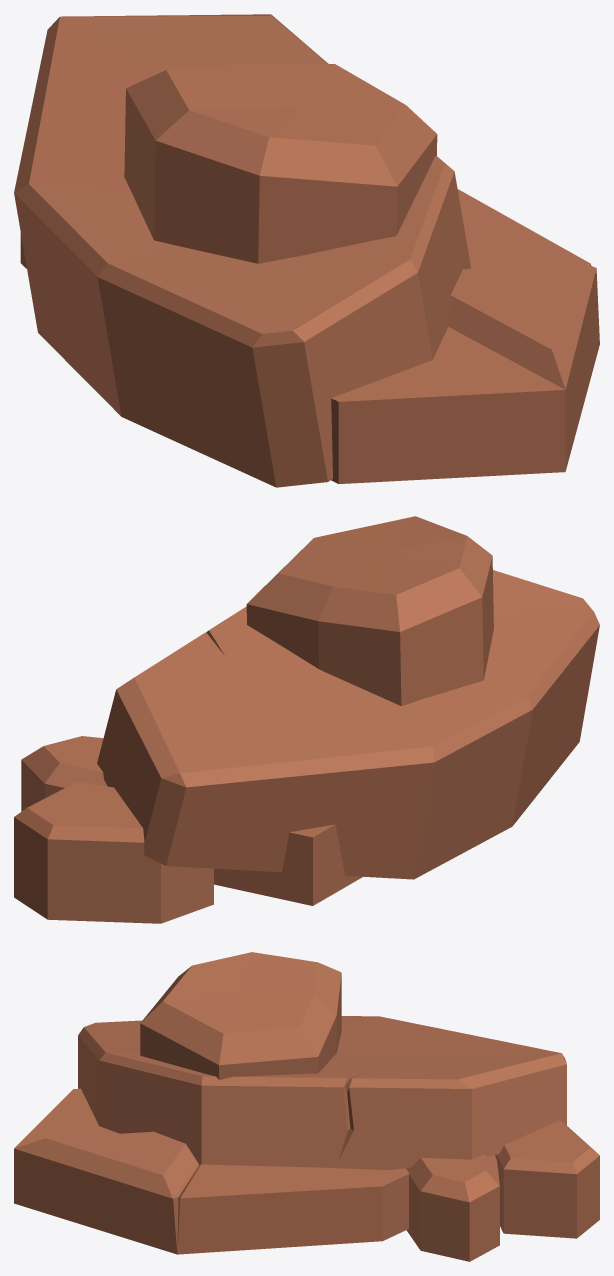
The model's file is cassiou.fbx.
The picture shows the model from 3 angles, top to bottom: view 1: azimuth 30°, elevation 25°; view 2: azimuth 150°, elevation 25°; view 3: azimuth 270°, elevation 25°; orthographic projection. The views are drawn at different scales.
Parts seen in each view (by area): view 1: Rock Type1 01 mesh.001; view 2: Rock Type1 01 mesh.001; view 3: Rock Type1 01 mesh.001.
Boxes of the visible parts, left/top/right/bottom form: Rock Type1 01 mesh.001: left=14, top=14, right=599, bottom=487; Rock Type1 01 mesh.001: left=14, top=516, right=599, bottom=923; Rock Type1 01 mesh.001: left=14, top=952, right=599, bottom=1261.
Bounding box in the file's own units: 418 × 258 × 703.
